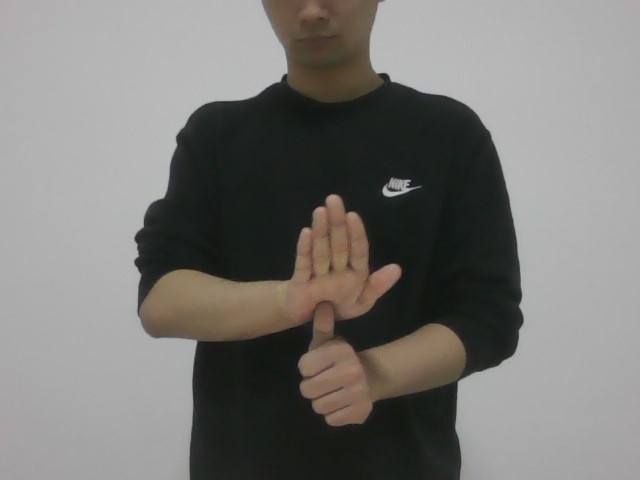love: (273, 192, 402, 428)
